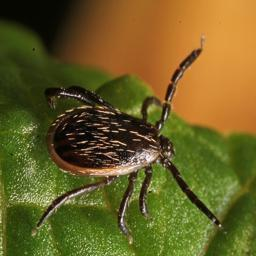Ixodes scapularis: (36, 35, 218, 234)
